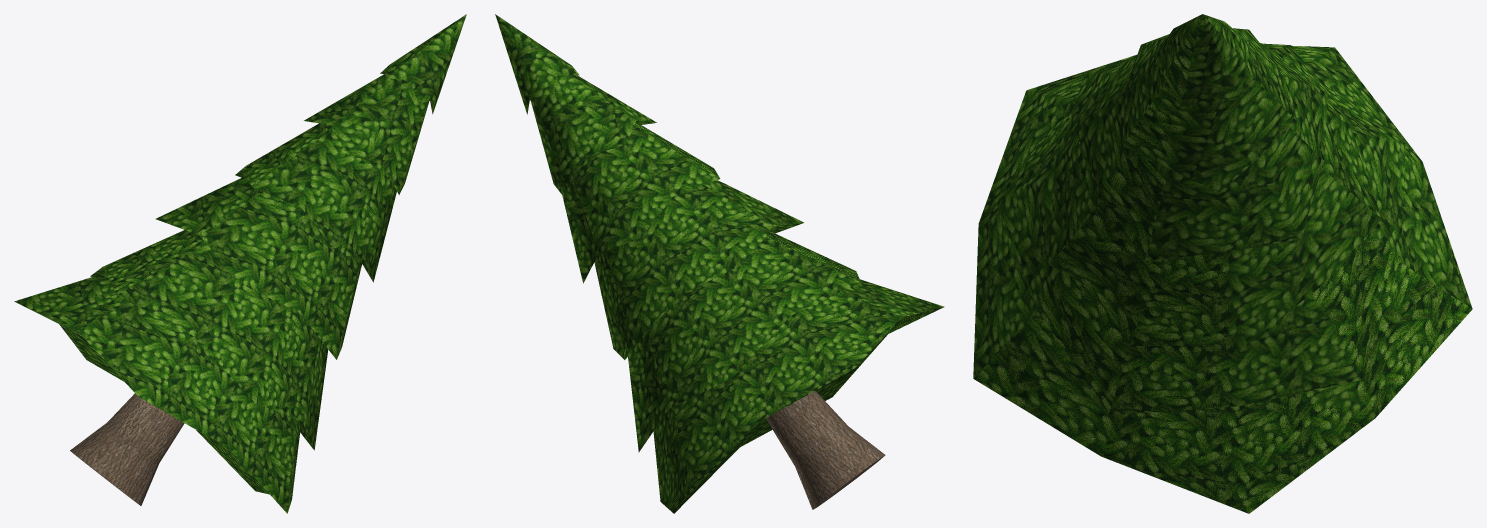
File: treefalls4.obj
3 renders of one model, left to right at view 1: azimuth 30°, elevation 25°; view 2: azimuth 150°, elevation 25°; view 3: azimuth 270°, elevation 25°, orthographic. The views are drawn at different scales.
Parts seen in each view (by area): view 1: Cylinder.002_Cylinder.013, Cylinder.001_Cylinder.012; view 2: Cylinder.002_Cylinder.013, Cylinder.001_Cylinder.012; view 3: Cylinder.002_Cylinder.013.
Part boxes in pixels (x1,y1,x2,y2): Cylinder.002_Cylinder.013: (14, 14, 466, 513); Cylinder.001_Cylinder.012: (70, 393, 184, 505); Cylinder.002_Cylinder.013: (495, 14, 944, 513); Cylinder.001_Cylinder.012: (766, 390, 885, 509); Cylinder.002_Cylinder.013: (973, 14, 1472, 513).
Bounding box in the file's own units: 3.08 × 3.19 × 2.26.
